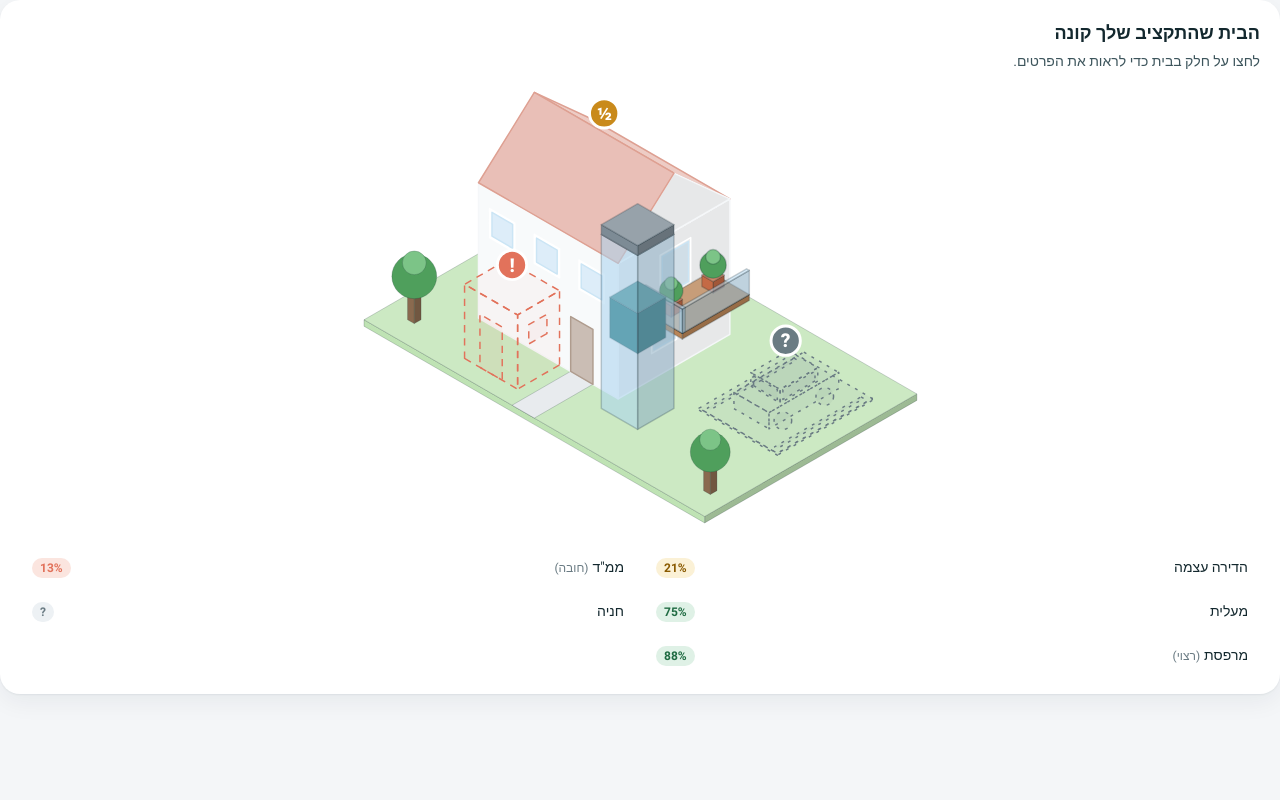
Test: HouseCard › says when there is not enough data instead of guessing
Step 1. Click the button "חניה ?" → (611, 612), box [20,594,636,630]
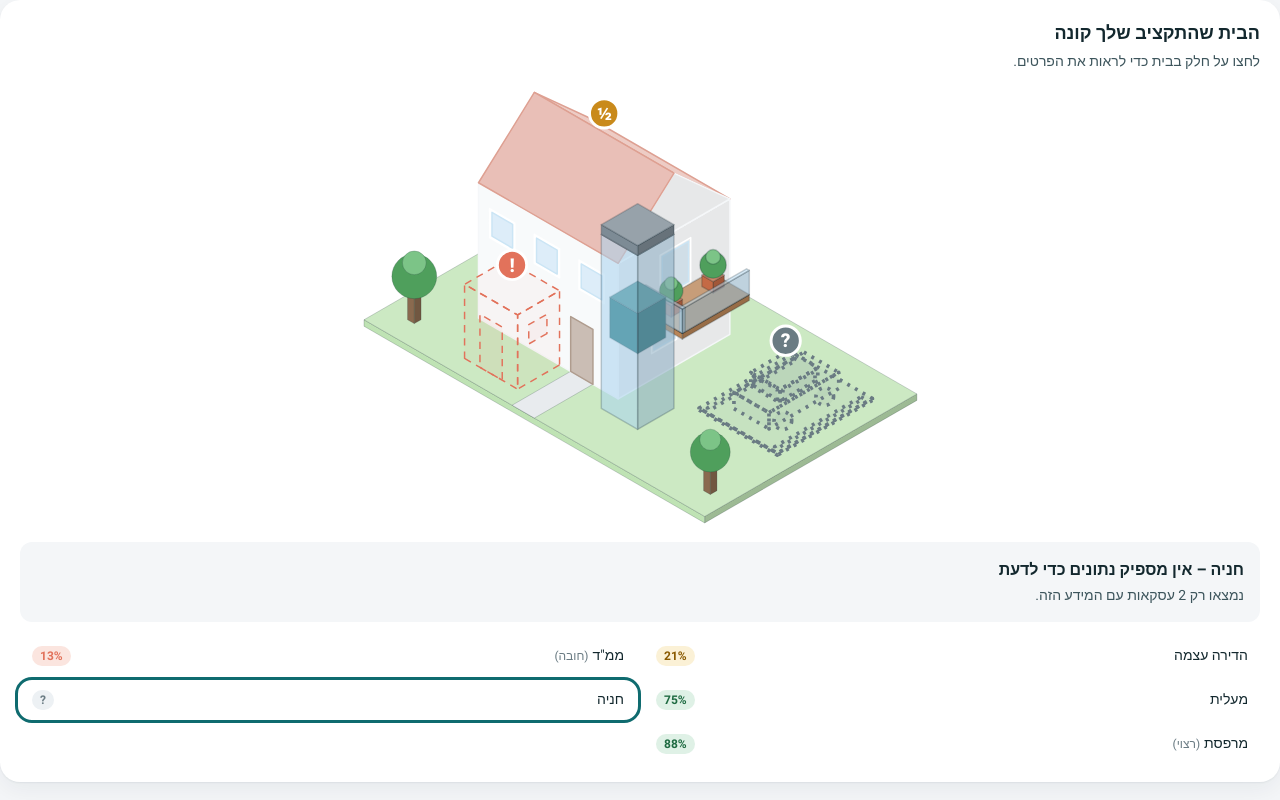
Now the message shows "אין מספיק נתונים כדי לדעת", box [999,558,1192,582]
Now the message shows "נמצאו רק 2 עסקאות", box [1035,585,1244,606]
